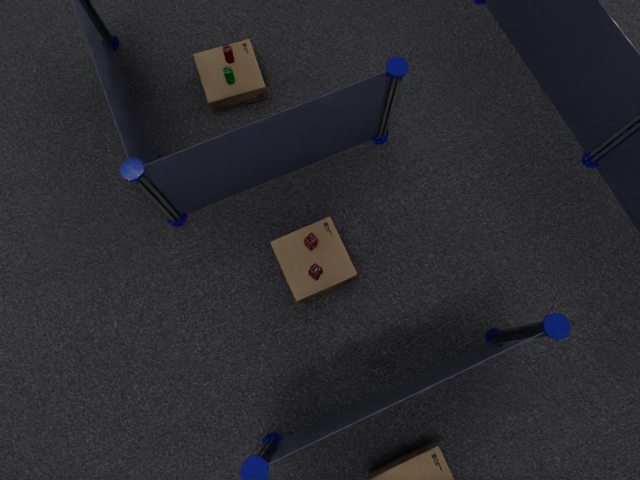puck_green_cyl: (223, 66, 234, 84)
puck_red_box: (304, 233, 317, 250), (309, 263, 322, 279)
puck_red_cyl: (222, 45, 233, 63)
